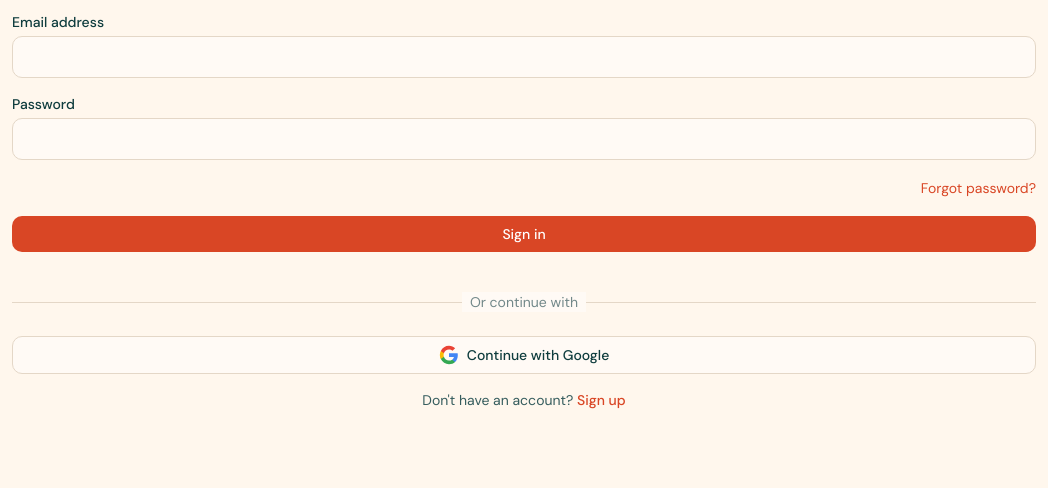
Scenario: components/auth/LoginForm › handles Google OAuth error
Click the button "Continue with Google" at (524, 355), box [12, 336, 1036, 374]
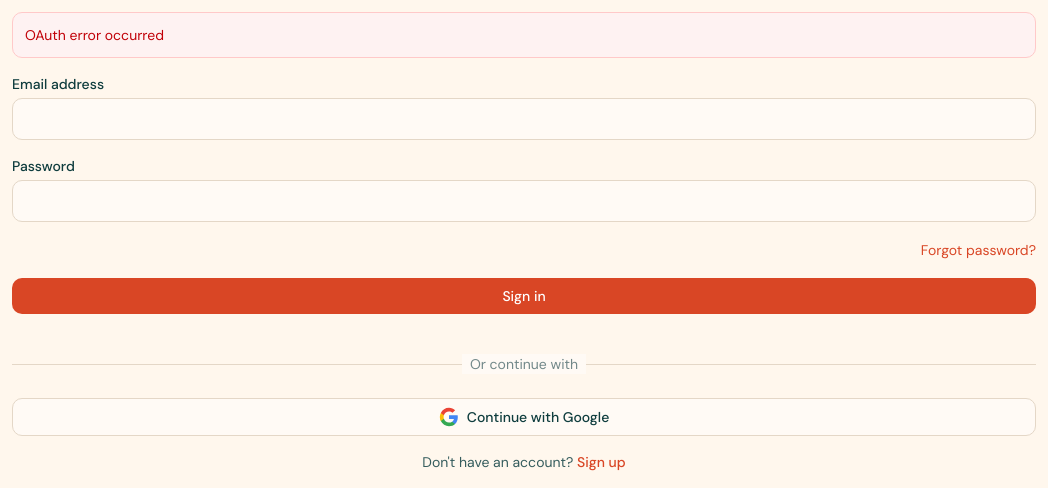
Check: the message reads "OAuth error occurred", box [25, 26, 164, 44]
